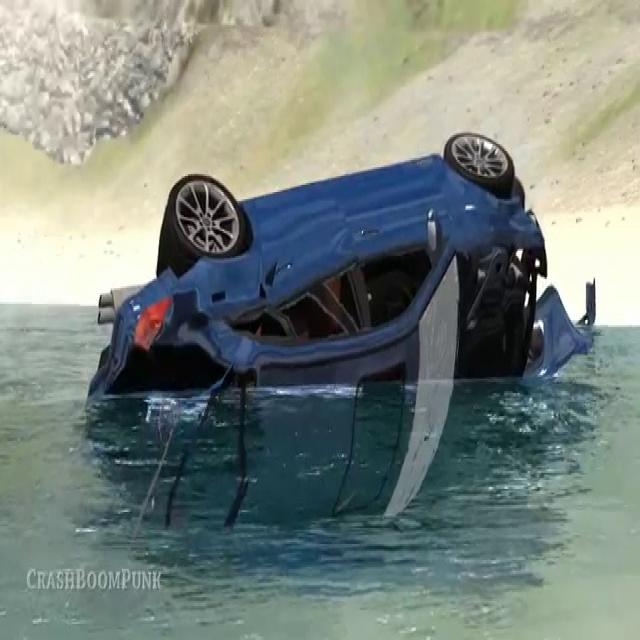accident: (87, 120, 601, 516)
